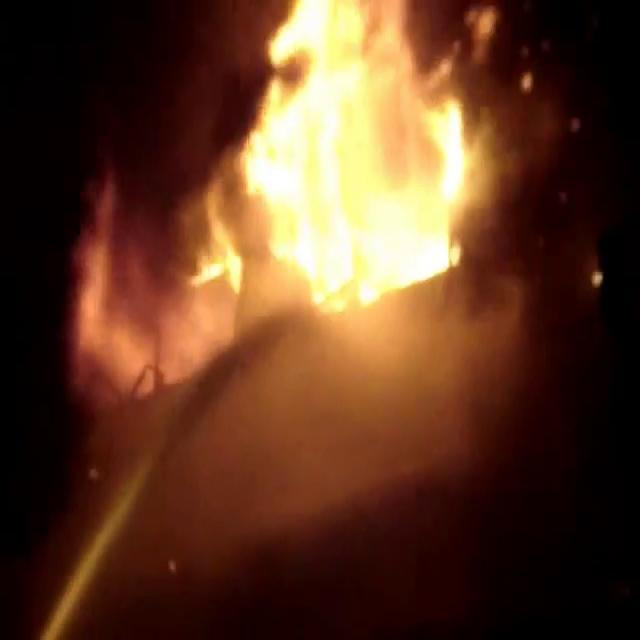Fire: (188, 0, 469, 313)
